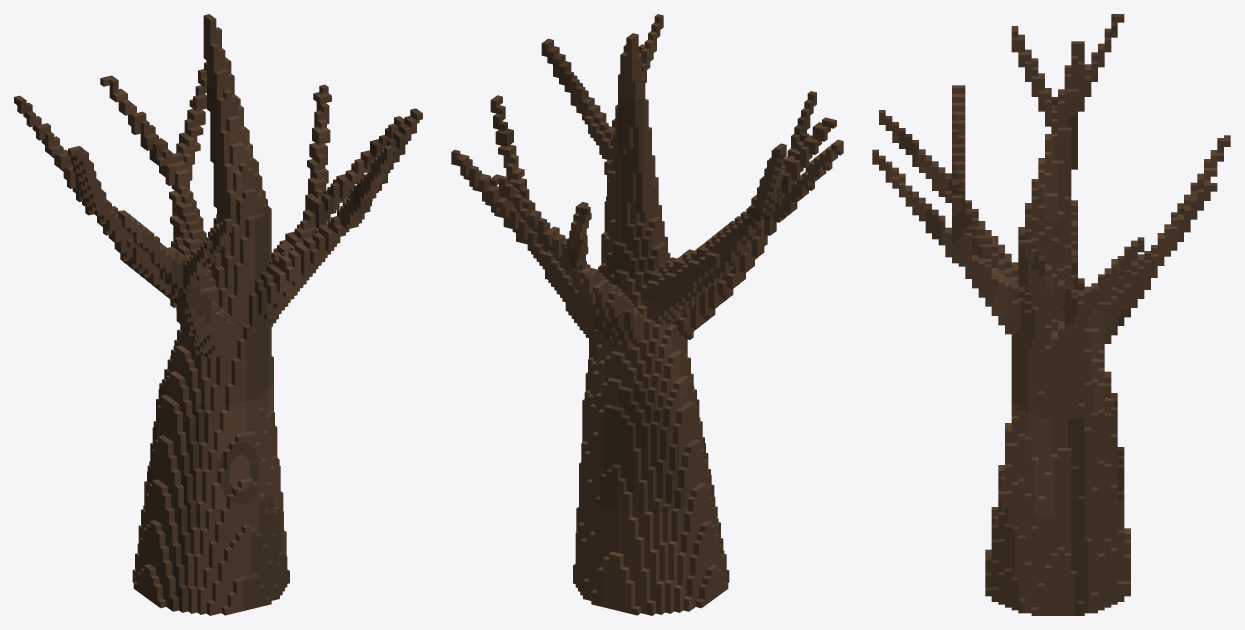
Rendered from apple_mature_winter.glb.
3 views of the same model, side by side, from view 1: azimuth 30°, elevation 25°; view 2: azimuth 150°, elevation 25°; view 3: azimuth 270°, elevation 25° (orthographic).
Visible parts, largest first — view 1: VoxelVisual; view 2: VoxelVisual; view 3: VoxelVisual.
Part boxes in pixels (<box>): VoxelVisual: <box>14,14,422,615</box>; VoxelVisual: <box>451,14,843,615</box>; VoxelVisual: <box>872,14,1230,615</box>.
Size of what is drawn, in the model's own units: 7.25 by 11.38 by 6.75.
